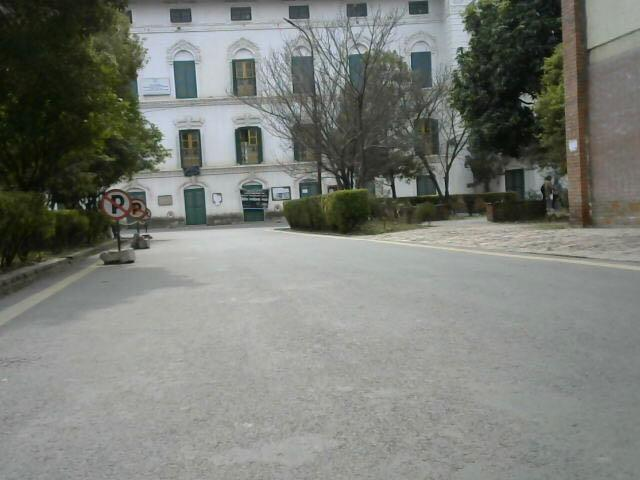Building: (135, 6, 456, 211)
Road: (0, 232, 579, 477)
Traffic sign: (96, 188, 134, 266), (130, 198, 145, 250), (141, 207, 153, 244)
Tree: (244, 21, 459, 190), (1, 1, 164, 171), (457, 0, 558, 159)
